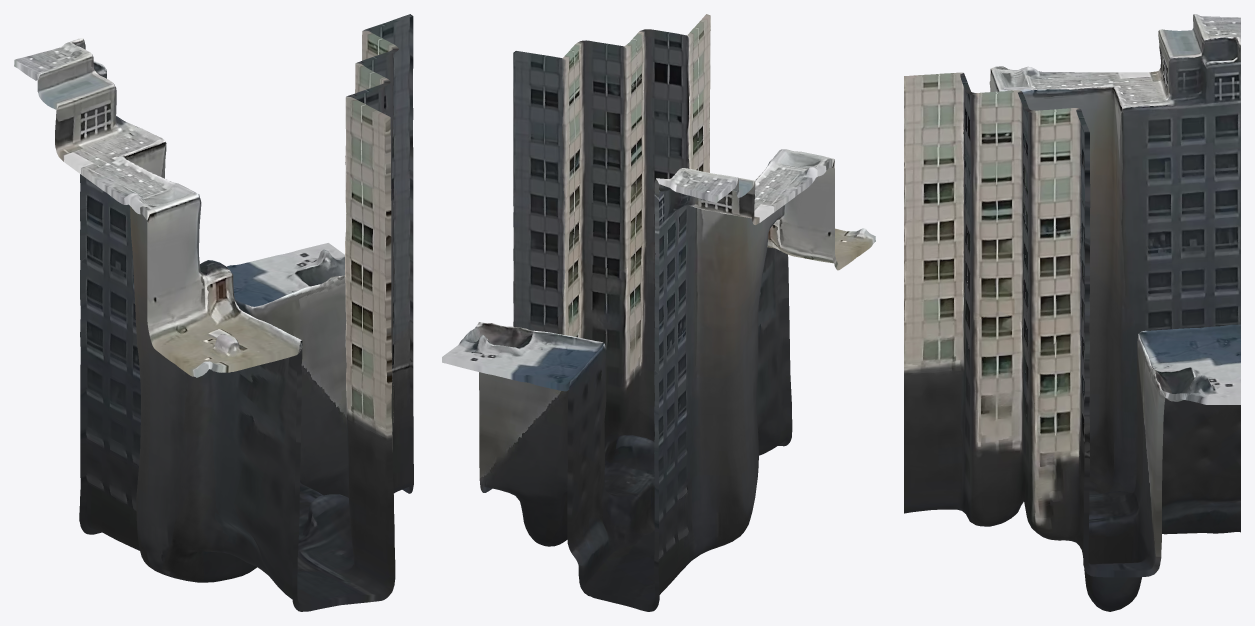
Rendered from z20-167762-405239-h0-yup-uvflip-v3-world.glb.
3 views of the same model, side by side, from view 1: azimuth 30°, elevation 25°; view 2: azimuth 150°, elevation 25°; view 3: azimuth 270°, elevation 25° (orthographic). The views are drawn at different scales.
Bounding box in the file's own units: 30.2 × 49.72 × 30.32.
Materials: 1 (1 with a texture image).
